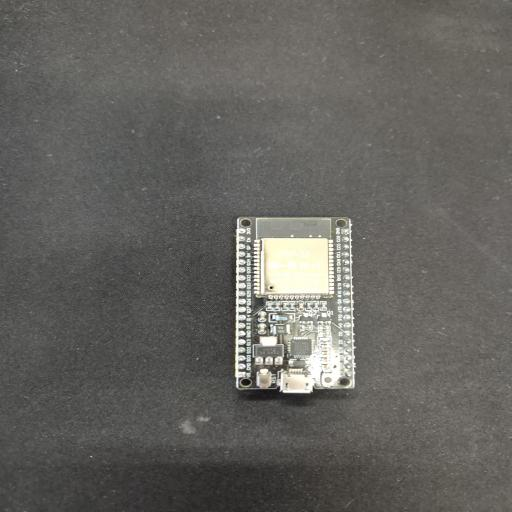esp32-dev: (236, 217, 355, 393)
